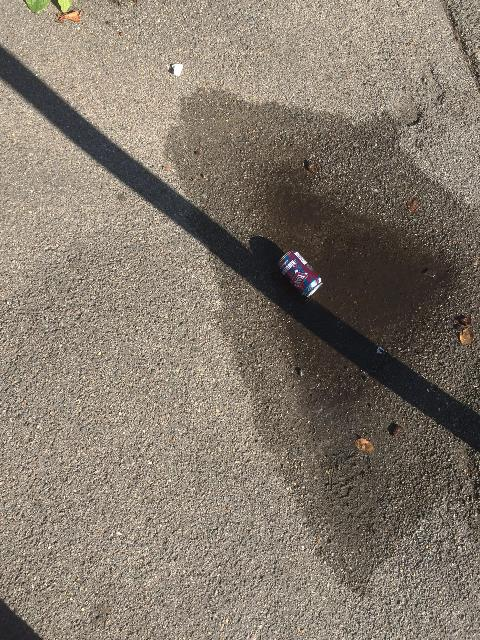metal: (277, 250, 322, 297)
